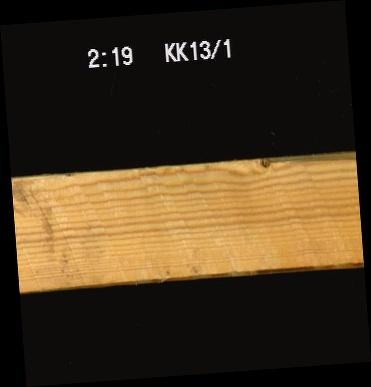edge_knot: (257, 156, 271, 173)
wave: (61, 261, 360, 283), (268, 153, 355, 164)
